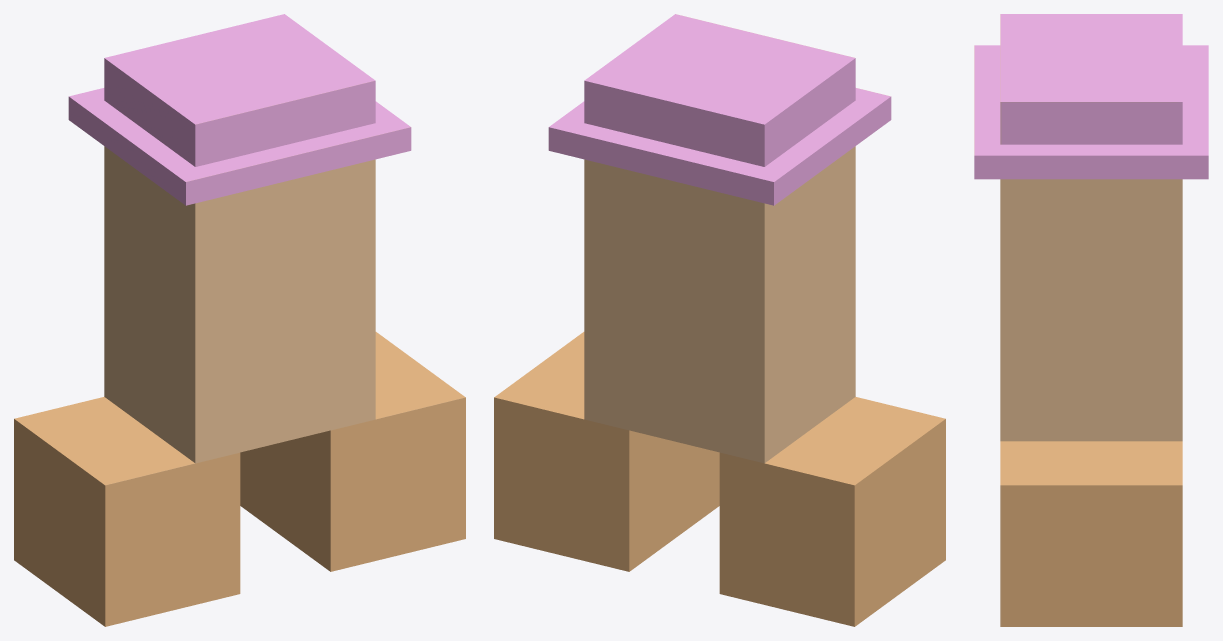
Rendered from creeper.obj.
3 renders of one model, left to right at view 1: azimuth 30°, elevation 25°; view 2: azimuth 150°, elevation 25°; view 3: azimuth 270°, elevation 25°, orthographic.
Parts seen in each view (by area): view 1: body, head, leg3, leg1; view 2: body, head, leg3, leg1; view 3: body, head, leg1.
Part boxes in pixels (x1,y1,x2,y2): body: (104, 146, 375, 463); head: (68, 14, 411, 205); leg3: (14, 397, 240, 626); leg1: (240, 332, 465, 571); body: (584, 146, 855, 463); head: (548, 14, 891, 205); leg3: (719, 397, 945, 626); leg1: (494, 332, 719, 571); body: (1000, 179, 1182, 441); head: (974, 14, 1208, 179); leg1: (1000, 441, 1182, 626).
Size of the model in its own units: 1 by 1.27 by 0.5625.
